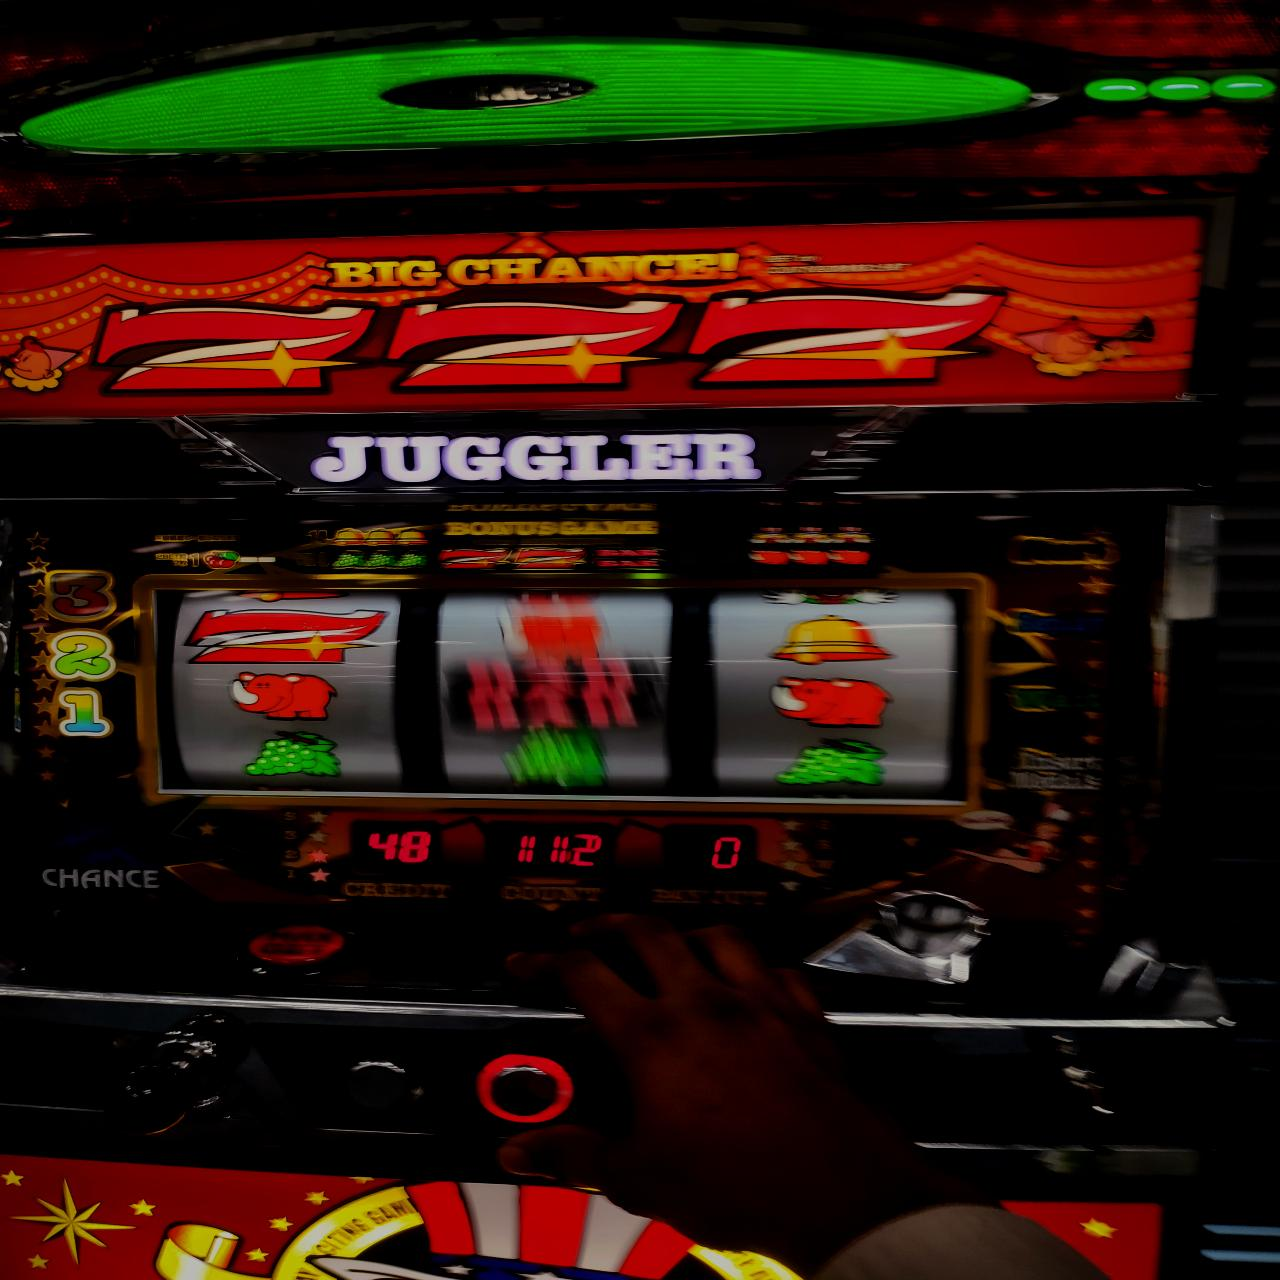8: (772, 678, 891, 727), (227, 673, 339, 721)
bell: (771, 613, 896, 667)
grape: (182, 606, 387, 667), (772, 734, 888, 789), (246, 731, 346, 778)
rhino: (134, 571, 969, 811)
